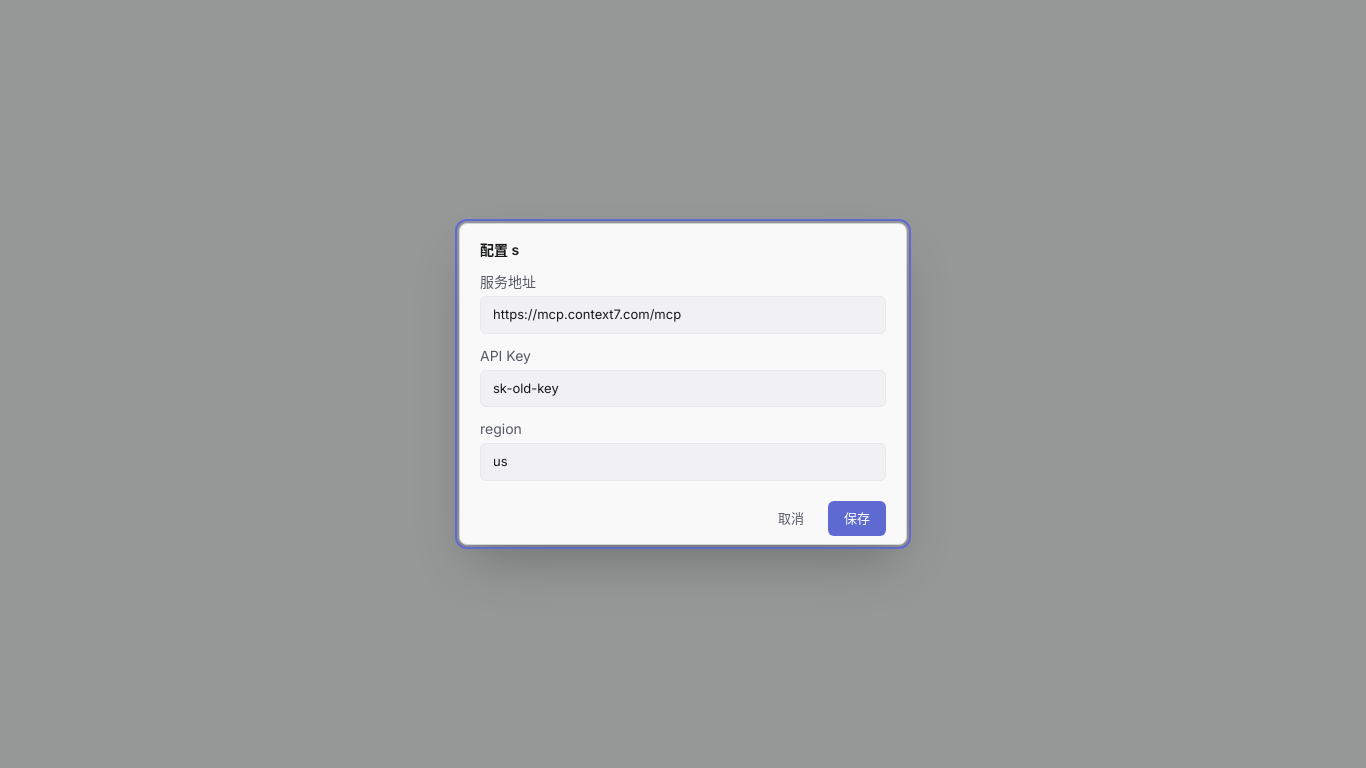
Test: McpConfigDialog — schema 模式回显（D9） › required 缺填 → 「保存」禁用；补齐恢复
Check: the button "保存" is enabled, box x1=828 y1=500 x2=886 y2=536
Clear the field labelled "API Key" at (683, 388), box x1=480 y1=370 x2=886 y2=407
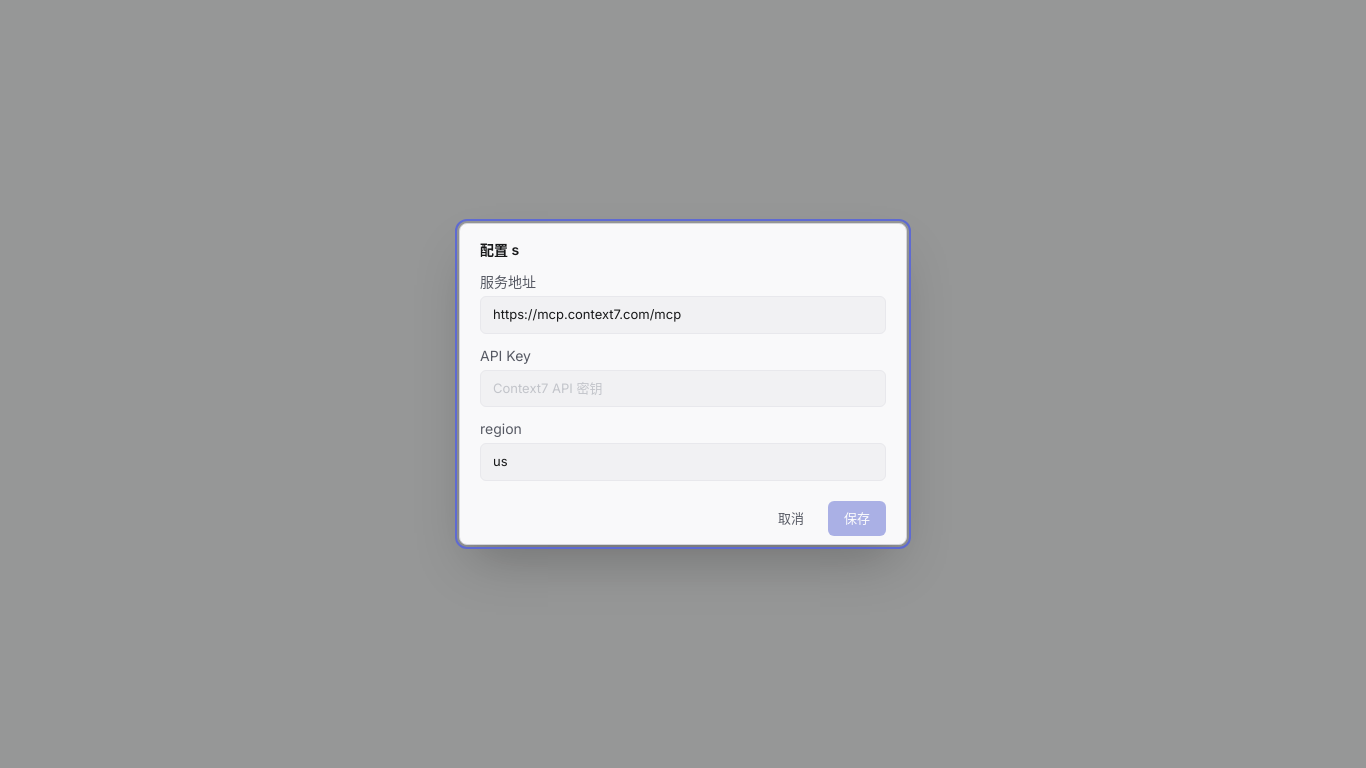
Check: the button "保存" is disabled, box x1=828 y1=500 x2=886 y2=536
Type "sk-new" into the field labelled "API Key" at (683, 388), box x1=480 y1=370 x2=886 y2=407
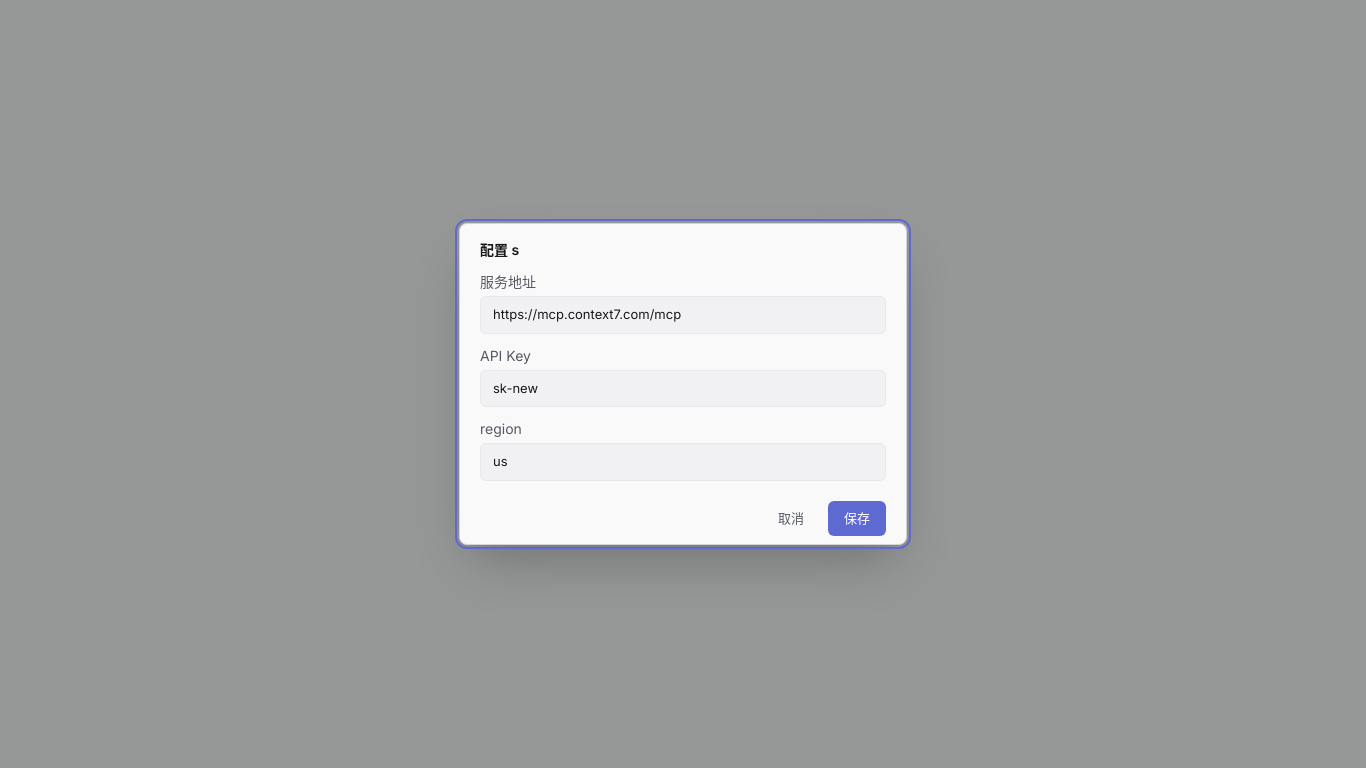
Check: the button "保存" is enabled, box x1=828 y1=500 x2=886 y2=536
